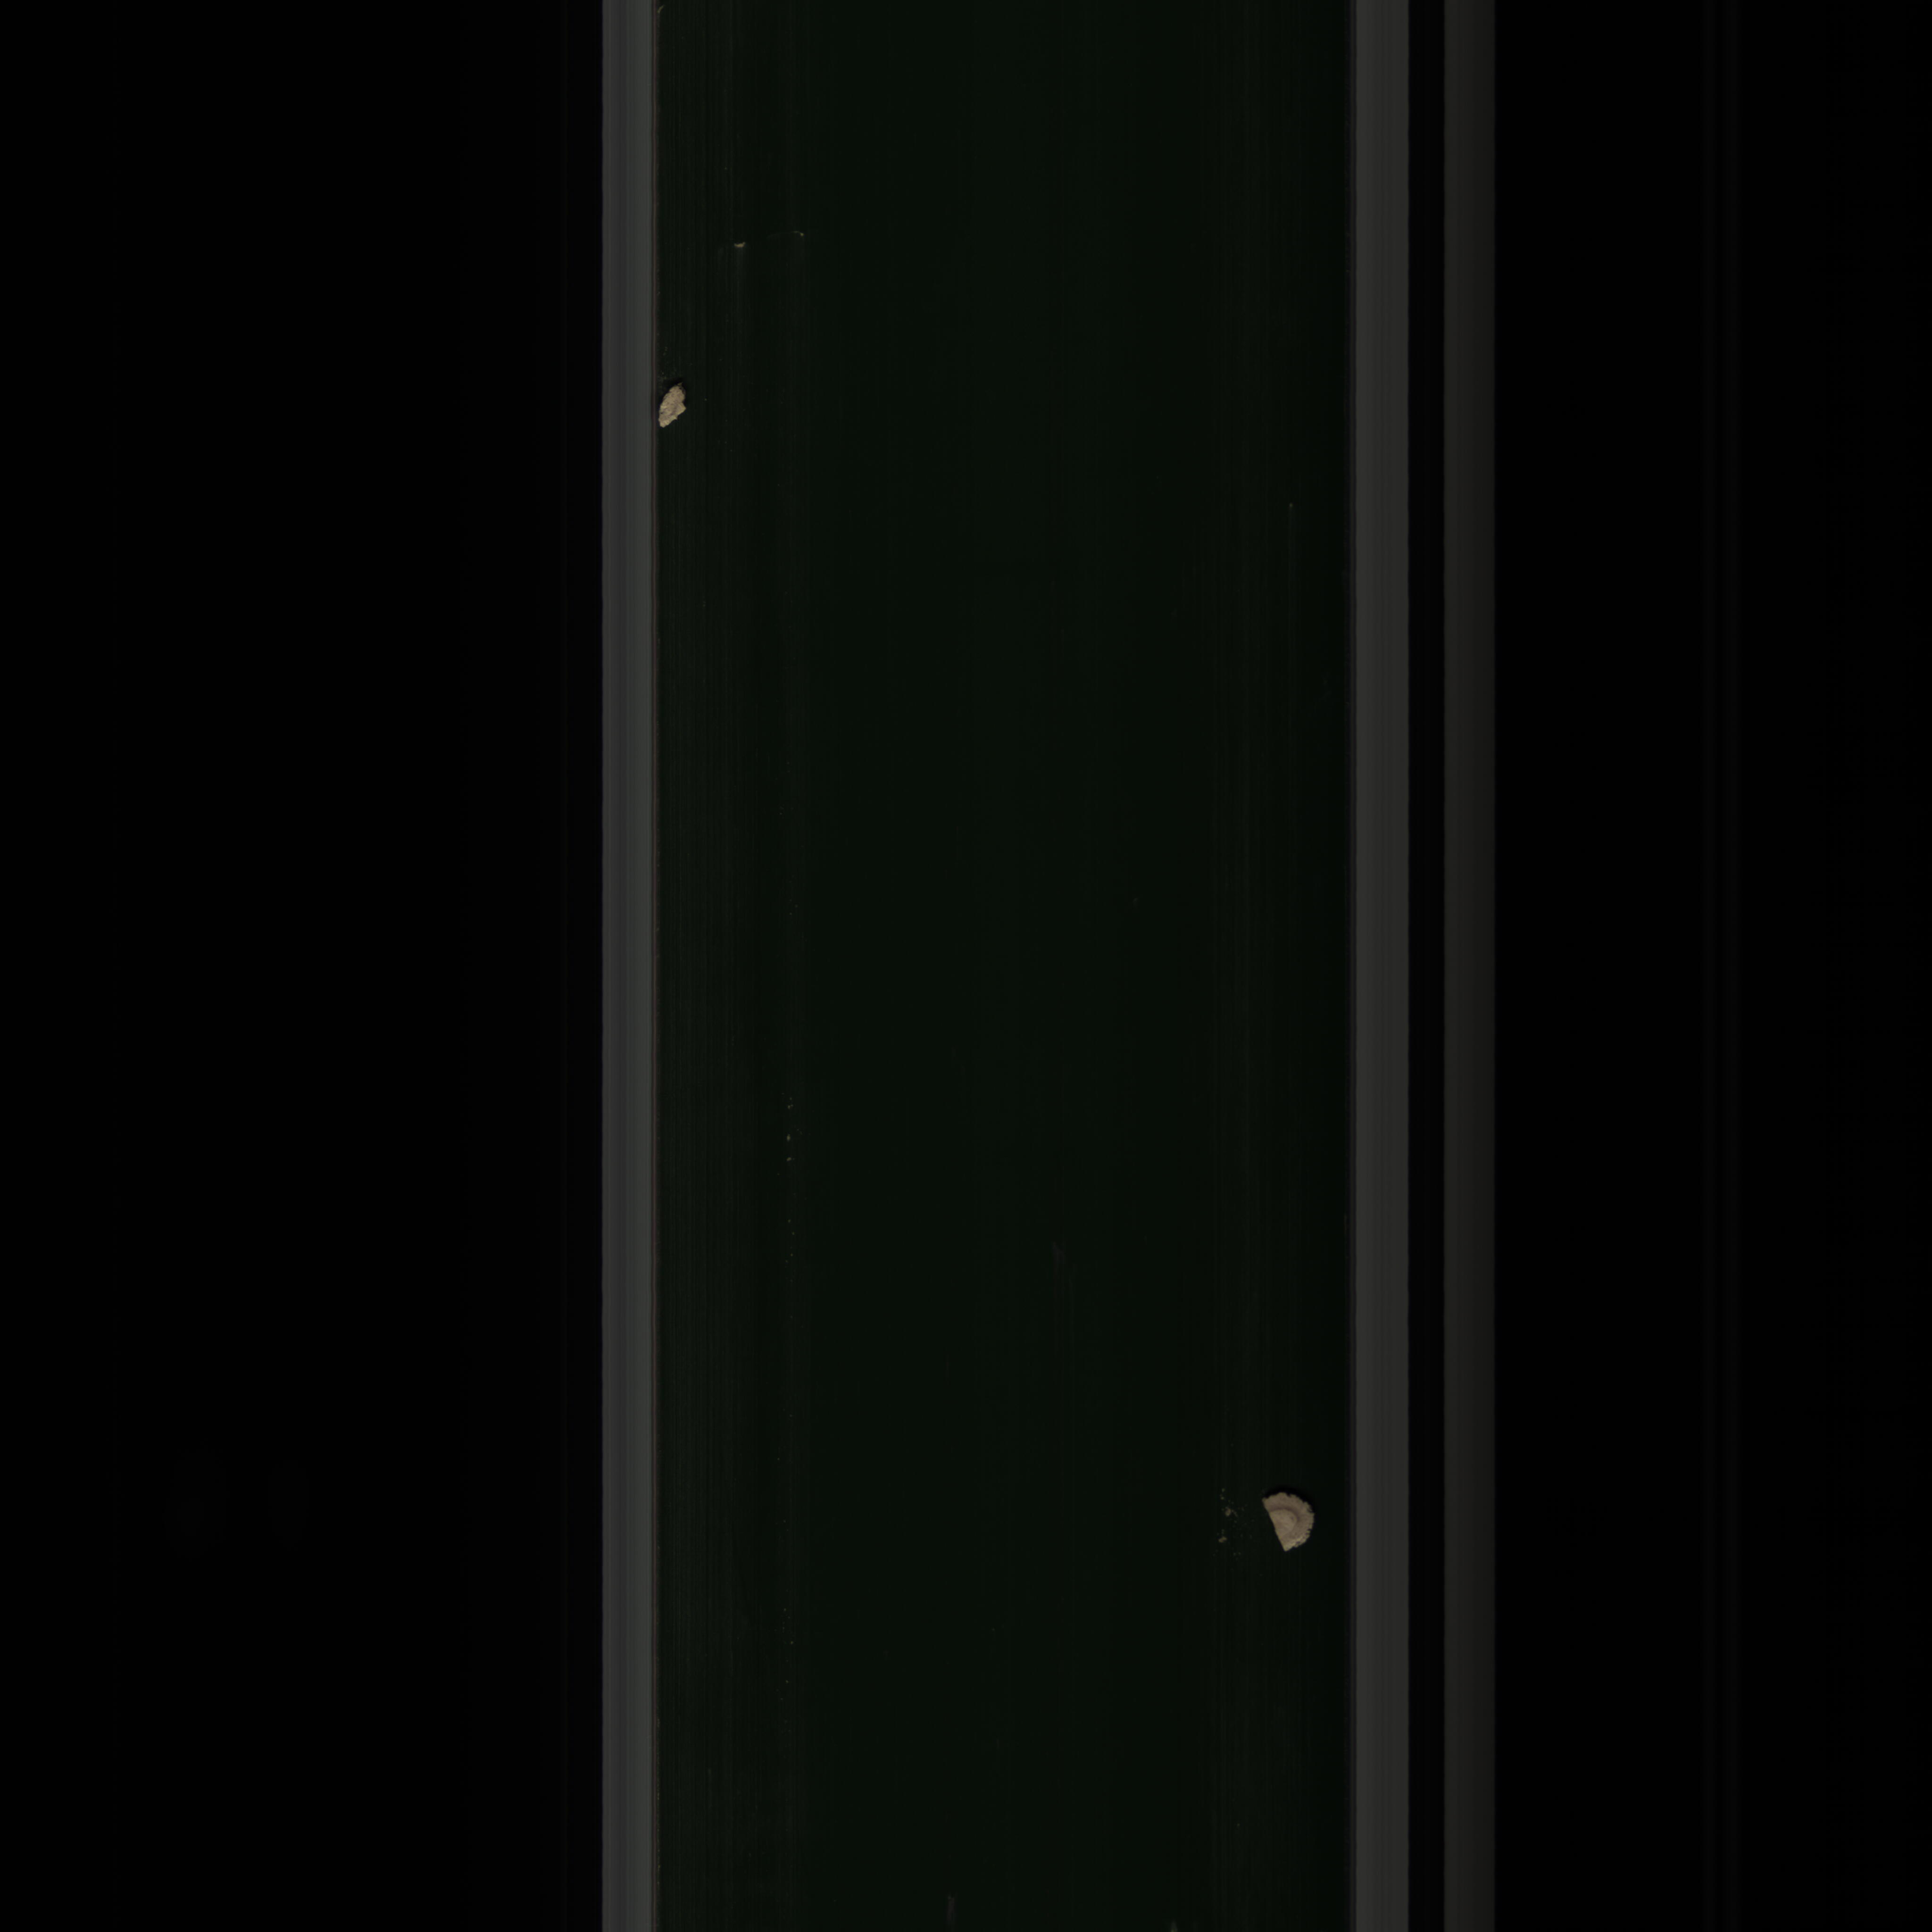debris: (1251, 1486, 1336, 1566), (655, 379, 699, 437)
